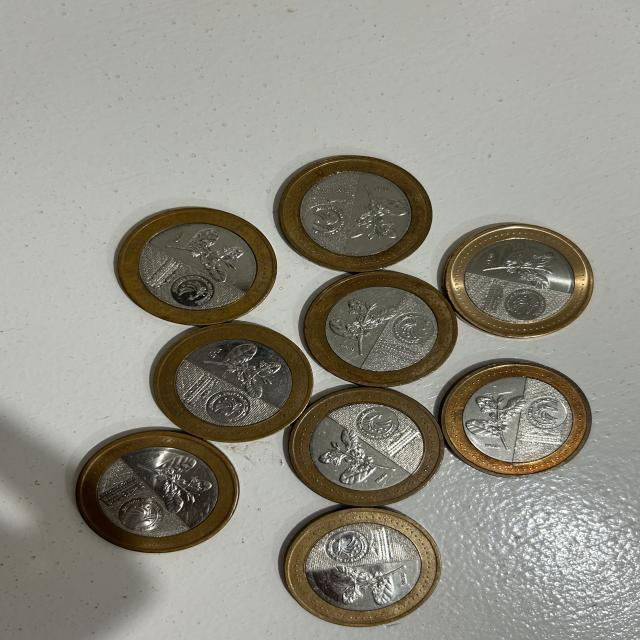20_New_Back: (208, 344, 282, 400), (143, 458, 213, 512), (319, 428, 388, 482), (476, 240, 556, 284), (321, 564, 406, 603), (173, 230, 240, 278), (469, 394, 524, 451), (331, 298, 393, 346), (352, 189, 404, 243)
